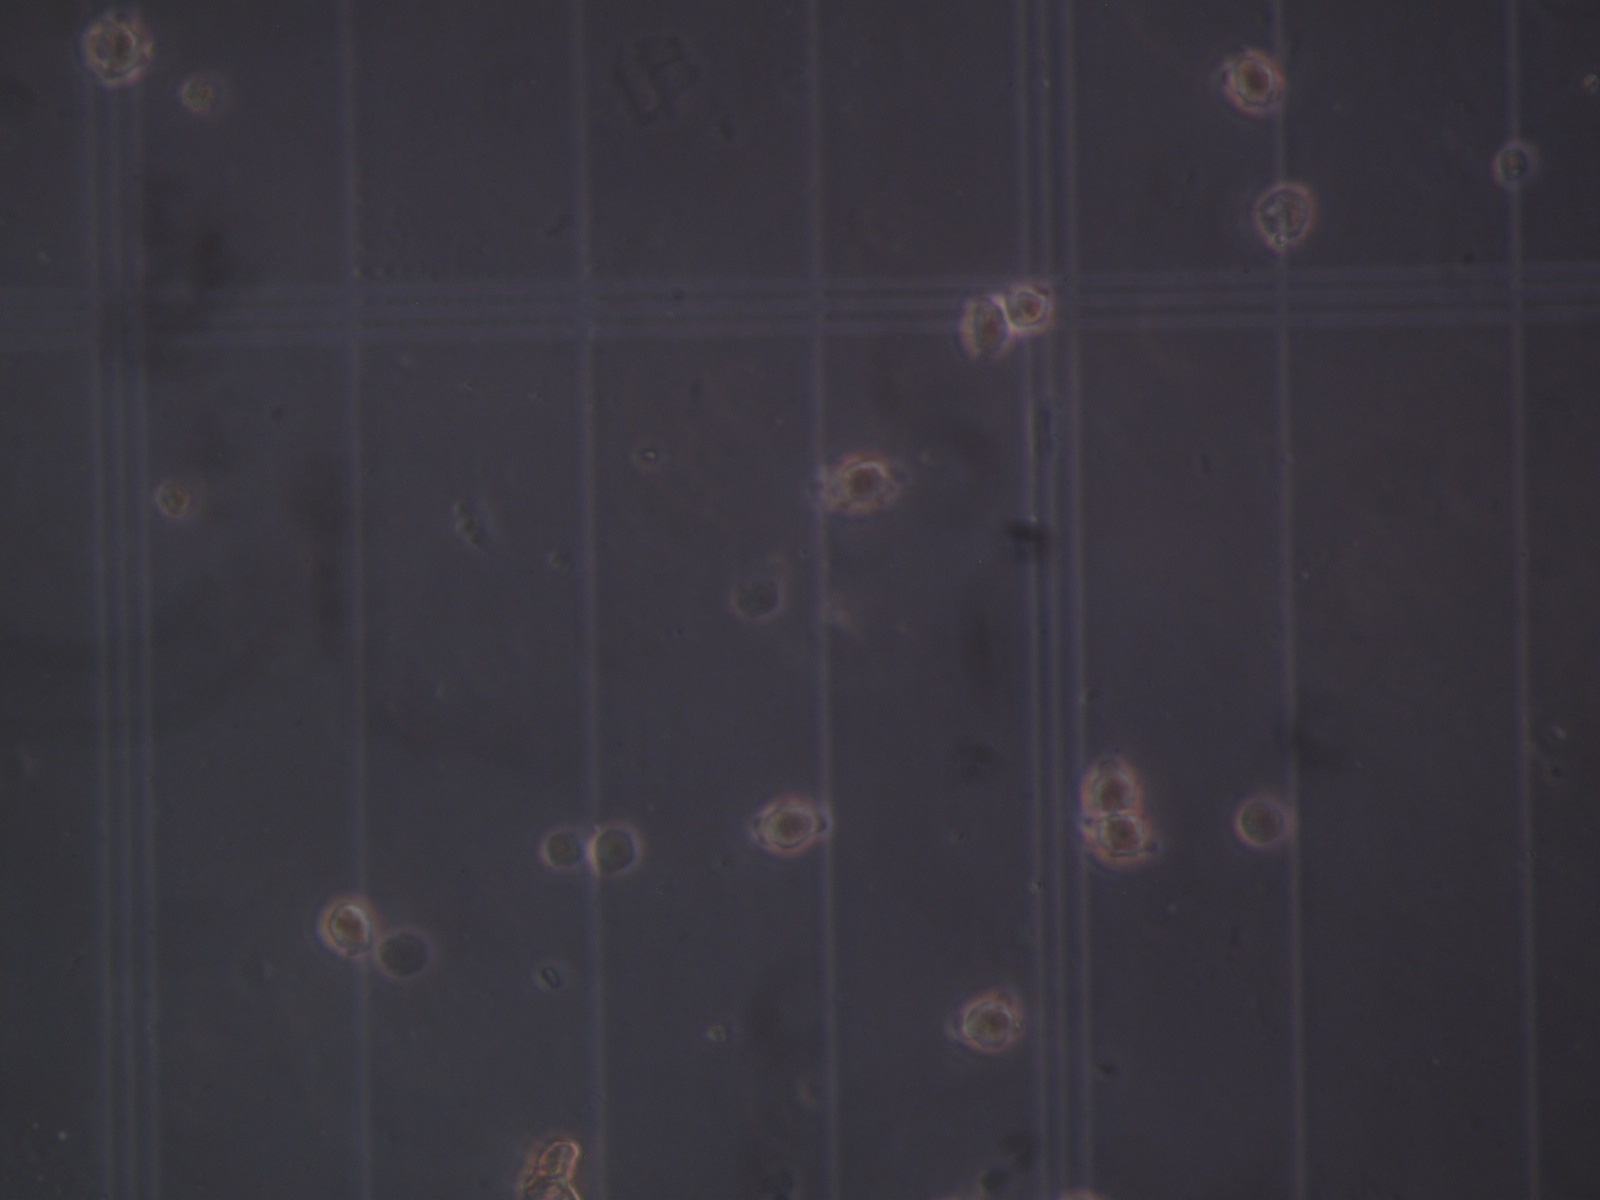hemo: (84, 19, 149, 83), (317, 892, 378, 959), (1256, 182, 1317, 243), (959, 292, 1013, 359), (837, 454, 891, 516), (1237, 794, 1296, 848), (1092, 814, 1151, 868), (378, 929, 436, 983), (1082, 763, 1143, 814), (960, 995, 1015, 1050), (761, 800, 816, 855), (590, 822, 641, 880), (1004, 280, 1054, 335), (1231, 59, 1276, 113), (540, 823, 590, 871), (180, 76, 226, 115), (1493, 145, 1531, 188), (156, 482, 190, 519)
